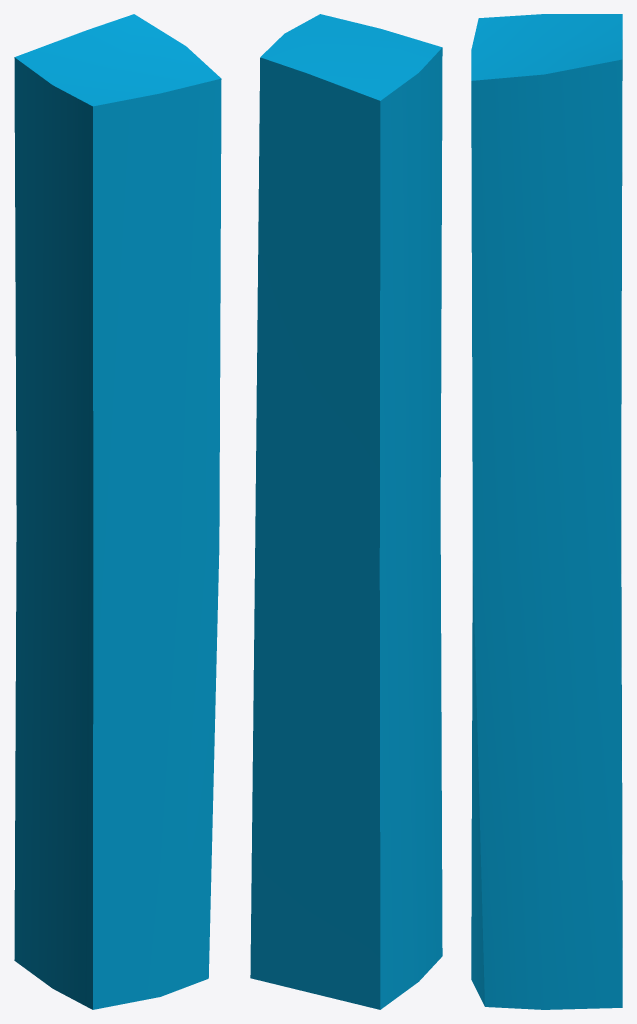
The model's file is Farm_Fence_Start_End.fbx.
The picture shows the model from 3 angles, left to right: view 1: azimuth 30°, elevation 25°; view 2: azimuth 150°, elevation 25°; view 3: azimuth 270°, elevation 25°; orthographic projection. The views are drawn at different scales.
Parts seen in each view (by area): view 1: Farm_Fence_Start_End; view 2: Farm_Fence_Start_End; view 3: Farm_Fence_Start_End.
Boxes of the visible parts, left/top/right/bottom form: Farm_Fence_Start_End: left=14, top=14, right=221, bottom=1009; Farm_Fence_Start_End: left=250, top=14, right=442, bottom=1009; Farm_Fence_Start_End: left=471, top=14, right=622, bottom=1009.
Size of the model in its own units: 20.79 by 137 by 19.85.
